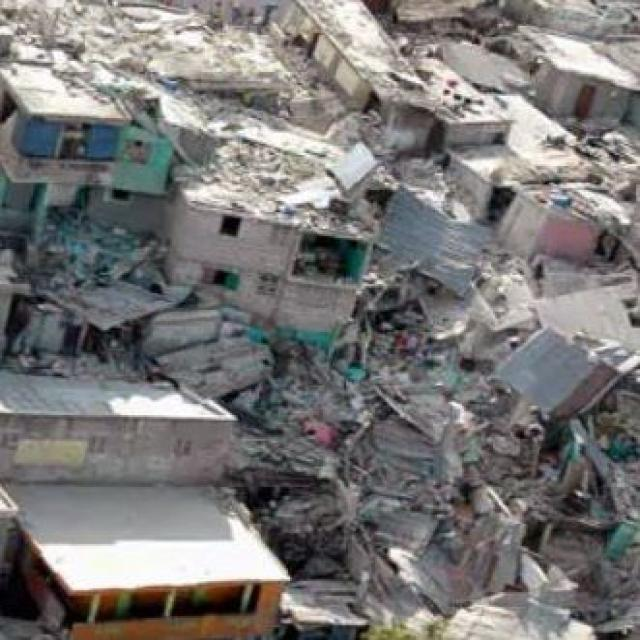collapsed_building: (226, 360, 628, 638), (402, 136, 632, 430), (170, 103, 387, 384), (0, 51, 162, 356)
